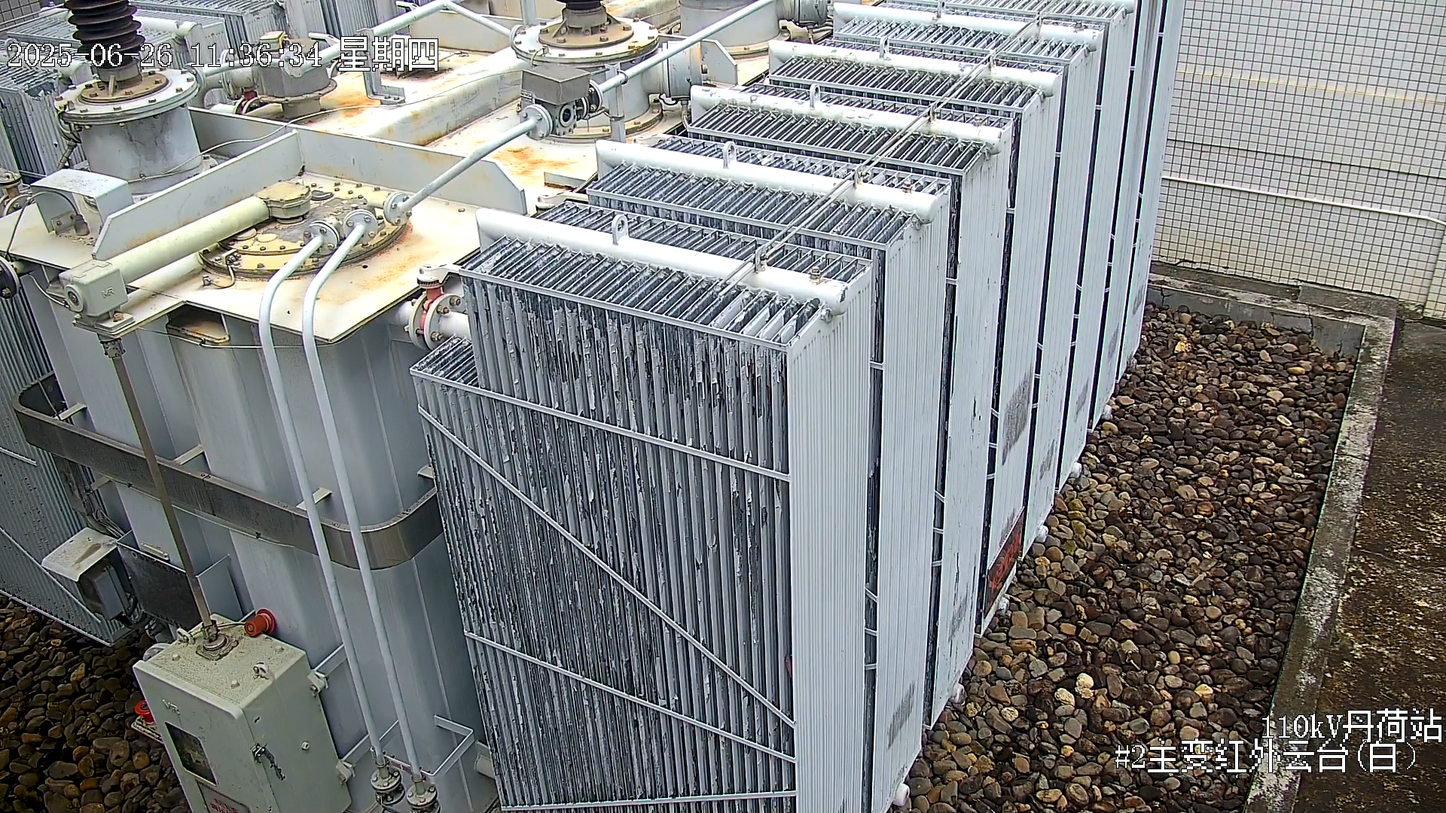MainTR: (1, 1, 1188, 813)
